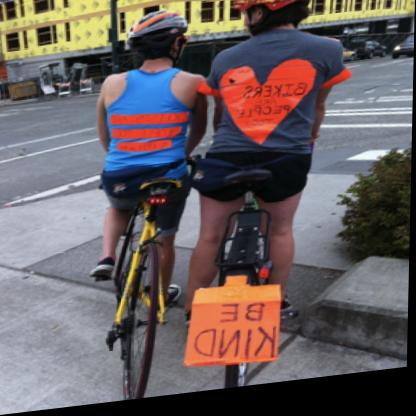With Helmet: (125, 9, 187, 68), (234, 0, 313, 44)
